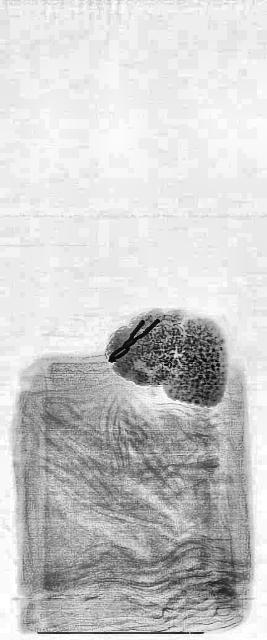Pliers: (108, 306, 158, 368)
